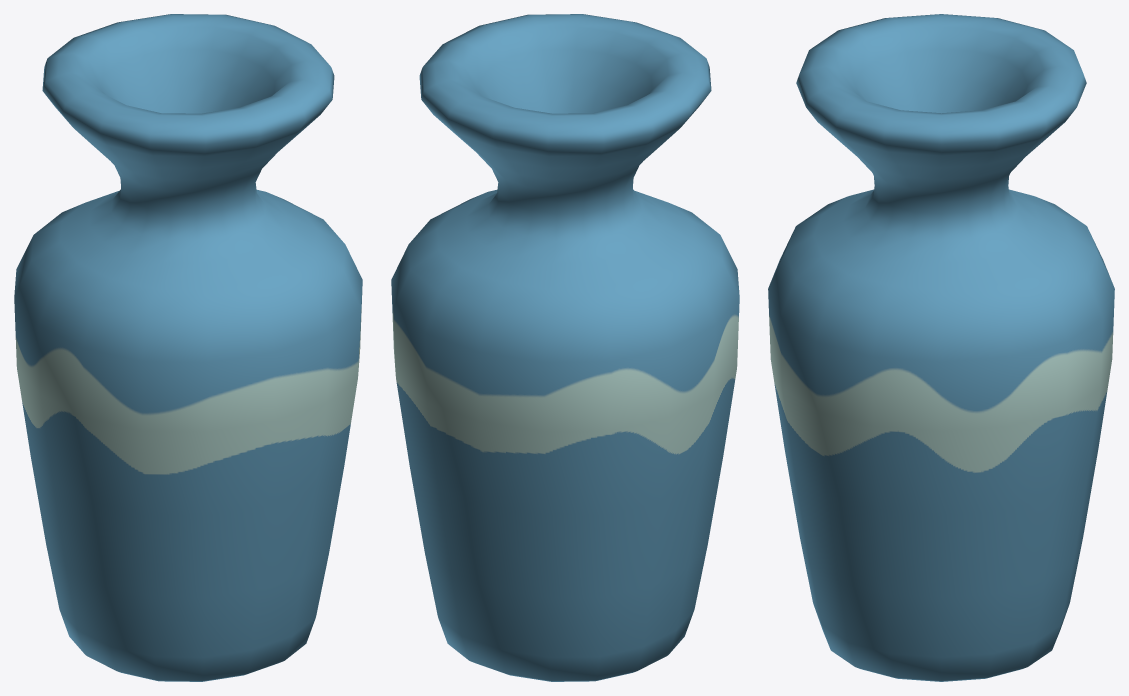
Rendered from BlueVaseL.fbx.
3 views of the same model, side by side, from view 1: azimuth 30°, elevation 25°; view 2: azimuth 150°, elevation 25°; view 3: azimuth 270°, elevation 25° (orthographic).
Visible parts, largest first — view 1: Cube.006; view 2: Cube.006; view 3: Cube.006.
Part boxes in pixels (<box>): Cube.006: <box>14,14,362,681</box>; Cube.006: <box>391,14,739,681</box>; Cube.006: <box>768,14,1114,681</box>.
Size of the model in its own units: 169 by 306 by 169.
